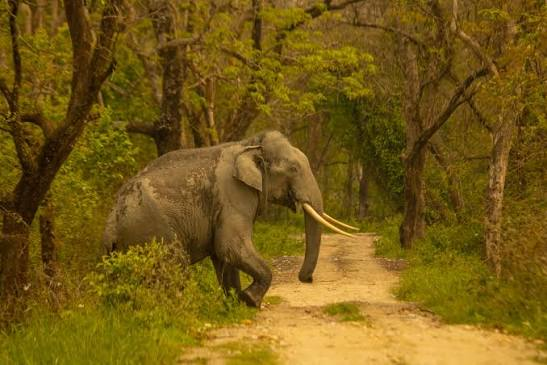elephant: (104, 131, 352, 306)
